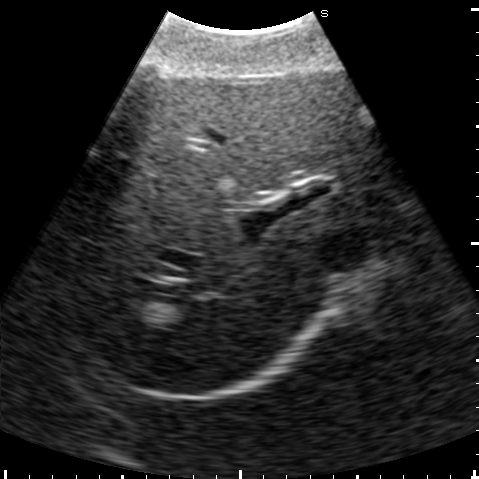IVC: (316, 230, 370, 268)
S1: (327, 192, 408, 236)
S2: (377, 183, 421, 211)
S3: (333, 95, 406, 190)
S4: (118, 69, 359, 203)
Tumor: (145, 302, 179, 327), (356, 105, 372, 124), (217, 177, 233, 190)
